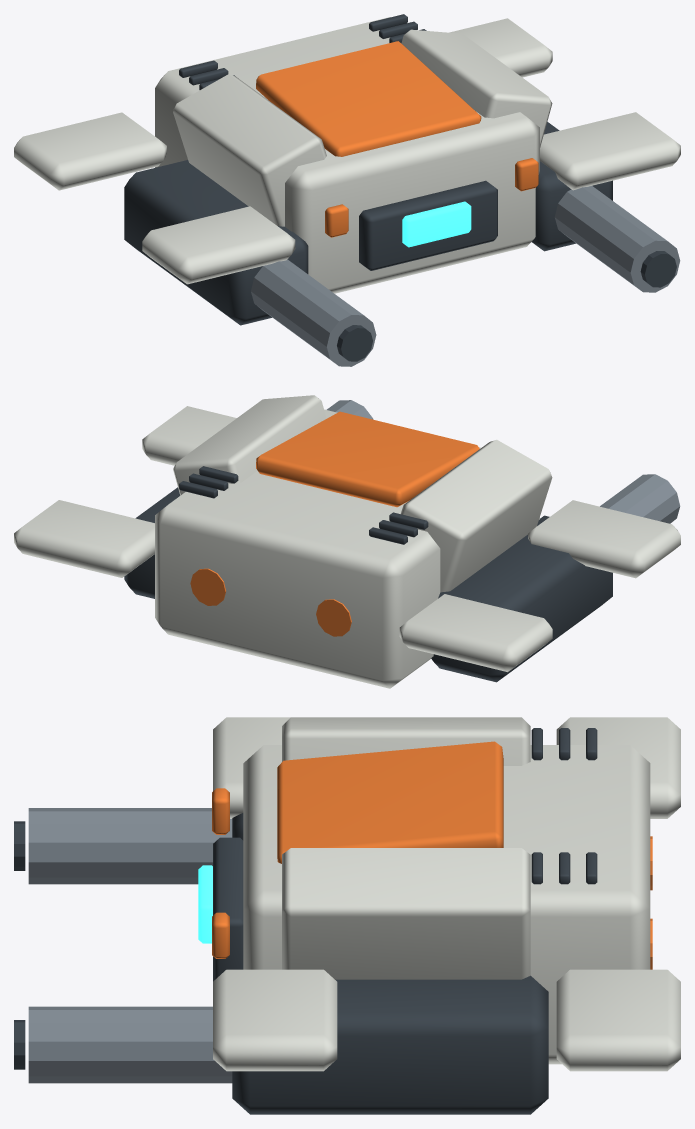
File: VXDR_ATTACK_v002_DRONE.fbx
The picture shows the model from 3 angles, top to bottom: view 1: azimuth 30°, elevation 25°; view 2: azimuth 150°, elevation 25°; view 3: azimuth 270°, elevation 25°; orthographic projection. The views are drawn at different scales.
Parts seen in each view (by area): view 1: Armored sensor shell, Top identification, Sloped cheek armor, Gun carrier, Foldable stabilizer, Foldable stabilizer.001, Foldable stabilizer.002, Sloped cheek armor.001, Sensor recess, Cannon barrel, Cannon barrel.001, Foldable stabilizer.003 (+6 smaller); view 2: Armored sensor shell, Top identification, Sloped cheek armor, Gun carrier, Foldable stabilizer.001, Foldable stabilizer.003, Foldable stabilizer, Sloped cheek armor.001, Foldable stabilizer.002, Cannon barrel, Gun carrier.001, Dock contact (+2 smaller); view 3: Armored sensor shell, Gun carrier.001, Sloped cheek armor.001, Top identification, Cannon barrel.001, Cannon barrel, Foldable stabilizer.002, Foldable stabilizer.003, Sloped cheek armor, Foldable stabilizer.001, Foldable stabilizer, Sensor recess (+5 smaller).
Part boxes in pixels (<box>): Armored sensor shell: <box>155,17,539,293</box>; Top identification: <box>256,41,481,156</box>; Sloped cheek armor: <box>173,74,326,226</box>; Gun carrier: <box>124,160,308,325</box>; Foldable stabilizer: <box>142,206,295,284</box>; Foldable stabilizer.001: <box>14,112,166,190</box>; Foldable stabilizer.002: <box>540,112,680,190</box>; Sloped cheek armor.001: <box>401,29,552,147</box>; Sensor recess: <box>359,180,497,270</box>; Cannon barrel: <box>251,259,376,366</box>; Cannon barrel.001: <box>554,186,680,292</box>; Foldable stabilizer.003: <box>449,18,552,77</box>; Armored sensor shell: <box>155,409,539,688</box>; Top identification: <box>256,411,479,507</box>; Sloped cheek armor: <box>401,439,552,592</box>; Gun carrier: <box>431,515,612,682</box>; Foldable stabilizer.001: <box>399,594,552,672</box>; Foldable stabilizer.003: <box>14,500,154,577</box>; Foldable stabilizer: <box>528,500,680,578</box>; Sloped cheek armor.001: <box>173,395,326,495</box>; Foldable stabilizer.002: <box>142,406,236,465</box>; Cannon barrel: <box>600,474,680,523</box>; Gun carrier.001: <box>124,487,180,598</box>; Dock contact: <box>316,599,351,636</box>; Armored sensor shell: <box>243,745,650,1064</box>; Gun carrier.001: <box>232,975,548,1114</box>; Sloped cheek armor.001: <box>282,848,530,979</box>; Top identification: <box>277,741,503,863</box>; Cannon barrel.001: <box>28,1006,232,1083</box>; Cannon barrel: <box>28,808,232,884</box>; Foldable stabilizer.002: <box>213,969,337,1071</box>; Foldable stabilizer.003: <box>556,969,680,1071</box>; Sloped cheek armor: <box>282,717,530,765</box>; Foldable stabilizer.001: <box>556,717,680,818</box>; Foldable stabilizer: <box>213,717,290,818</box>; Sensor recess: <box>213,837,243,981</box>.
Bounding box in the file's own units: 34.4 × 10.27 × 29.5.
